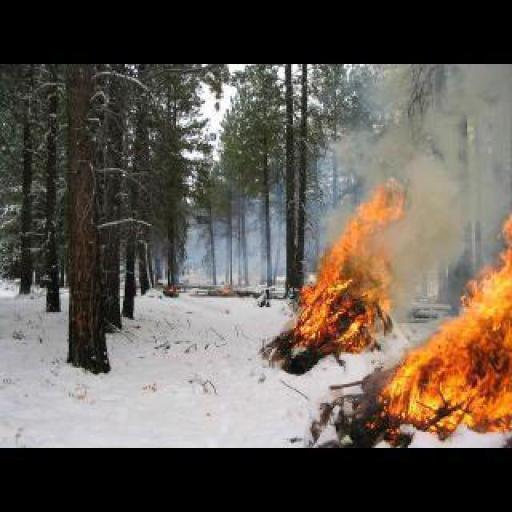smoke: (306, 190, 510, 430)
